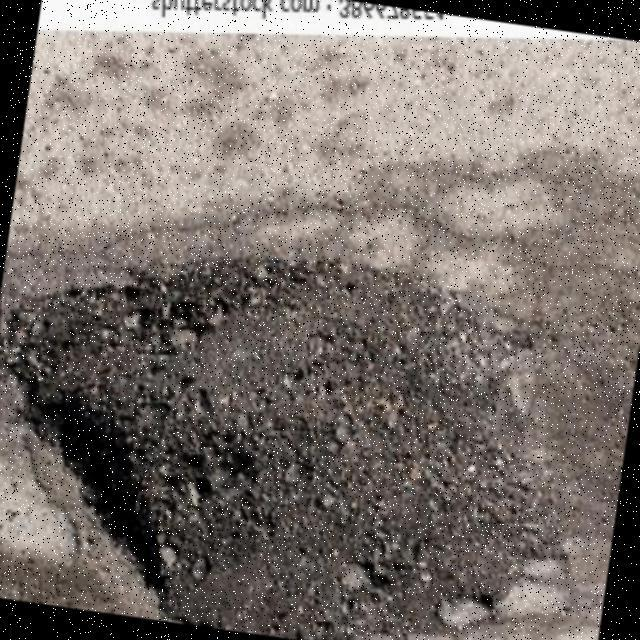Pothole: (6, 258, 555, 640)
